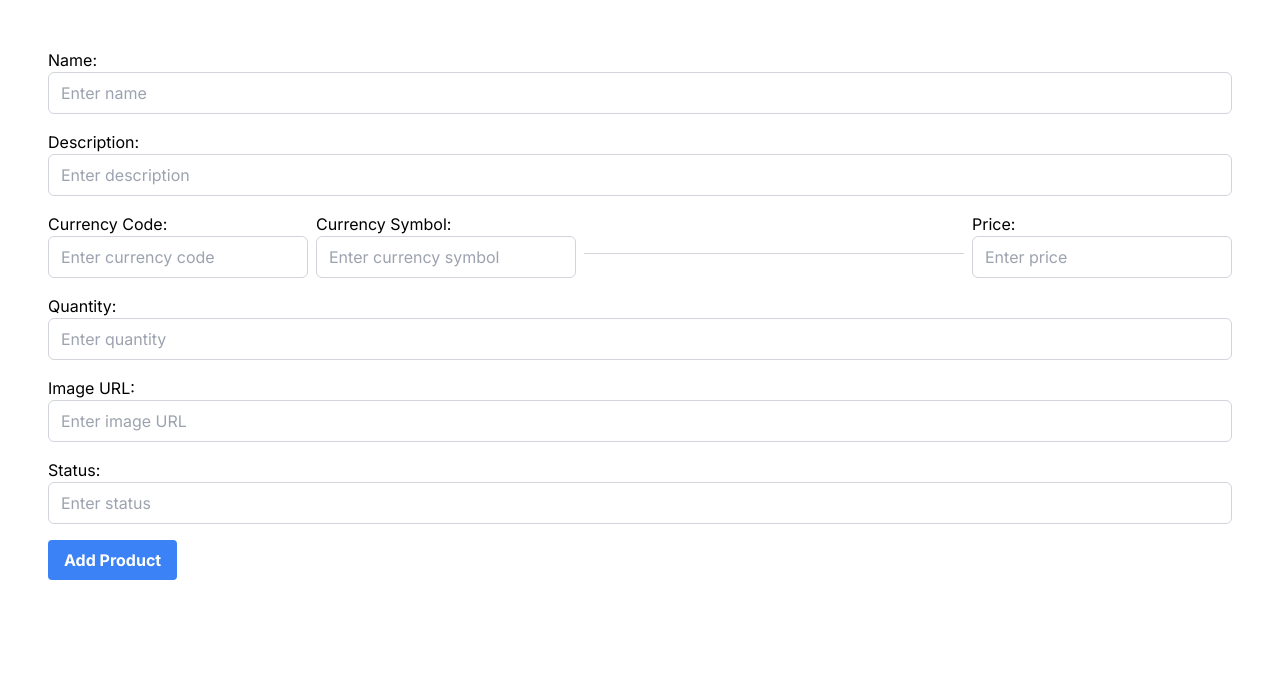
AddProduct Component › displays error message if required fields are empty
# Submit the form without filling in any fields
What coordinates should you click on to do the following:
click the button "Add Product"
I would click on:
 (113, 560)
Its box is [48,540,177,580].
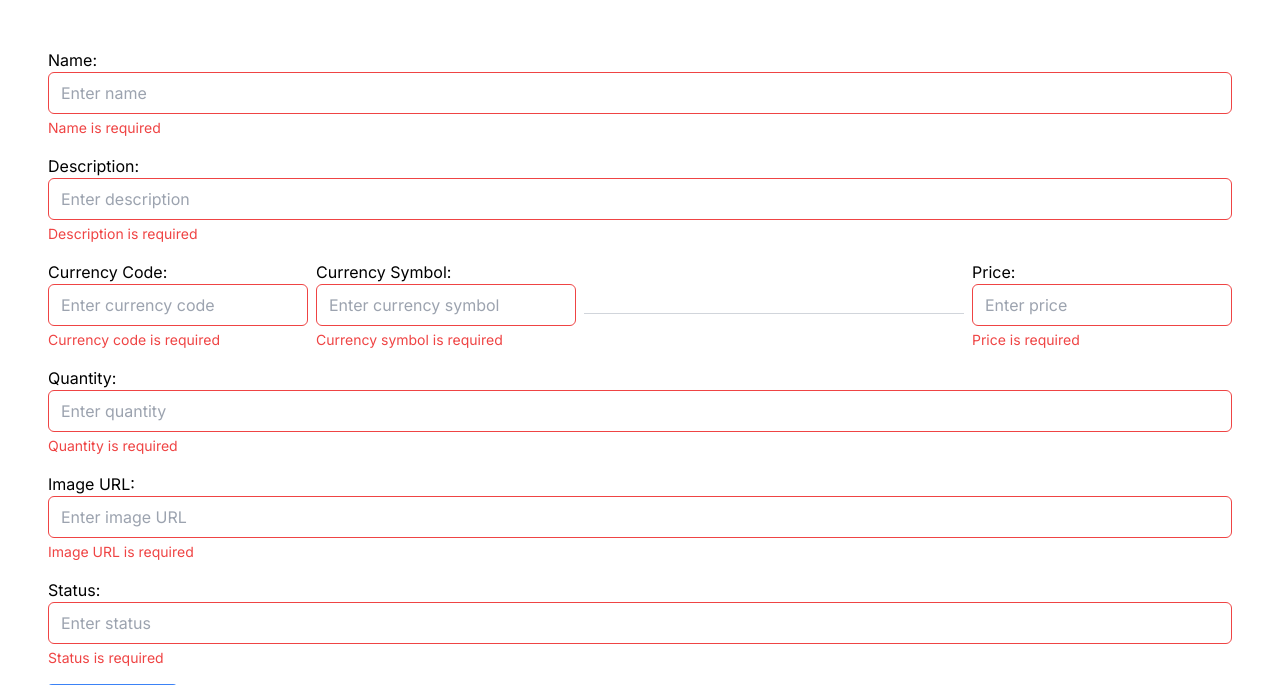
Check: the text "Name is required" is shown, box [48,119,161,136]
Check: the text "Description is required" is shown, box [48,225,198,242]
Check: the text "Price is required" is shown, box [972,331,1080,348]
